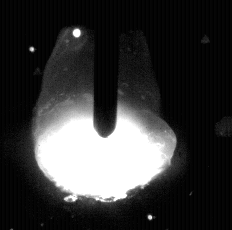arame: (94, 0, 118, 138)
poca: (34, 0, 176, 230)
